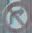Don't turn right: (2, 1, 31, 31)
